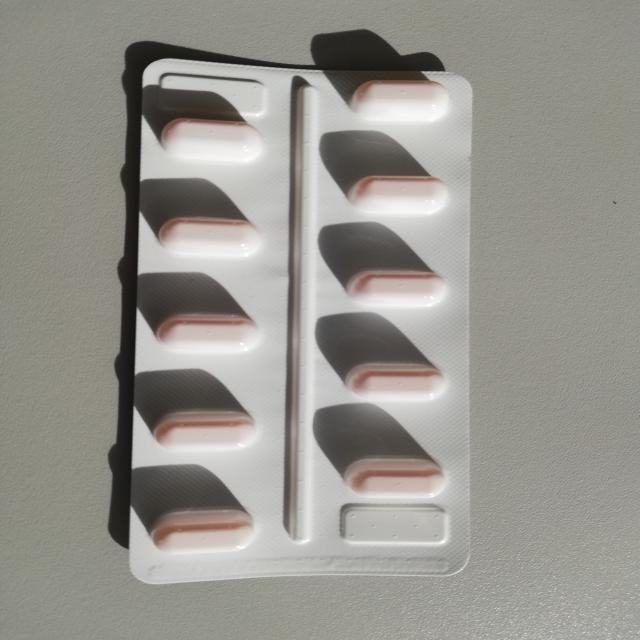Pill: (139, 399, 274, 458), (150, 111, 278, 171), (144, 210, 276, 265), (144, 306, 272, 360), (332, 261, 454, 313), (134, 507, 268, 554), (339, 75, 467, 124), (339, 167, 457, 220), (332, 453, 456, 501), (335, 356, 452, 402)
